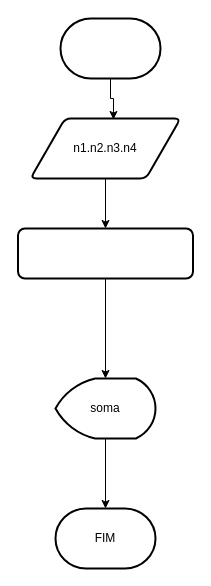
Image size: 211x586. Some labels were removed from this diagram. The shapes that lost their labels are listed below. From the top down, each one's centre as x and y in pixels, then its label:
pixel 110 48: INICIO
pixel 105 253: soma=(n1*n1)+(n2*n2)+(n3*n3)+(n4*n4)
